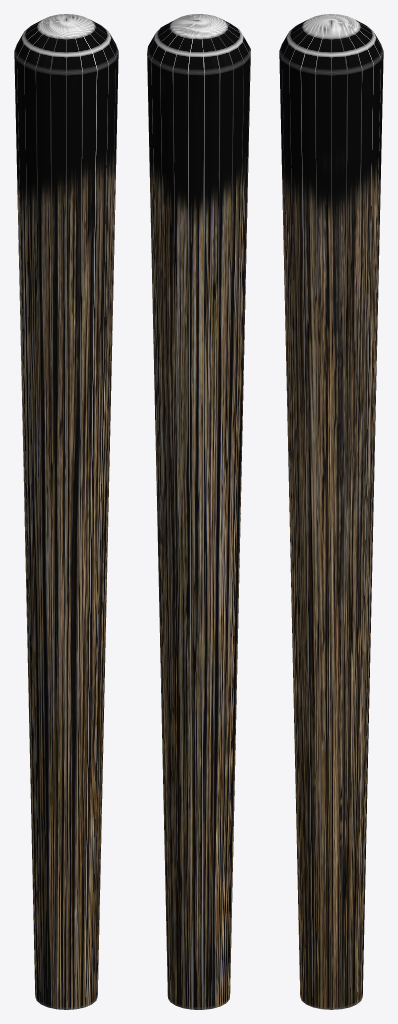
File: Torch.fbx
3 renders of one model, left to right at view 1: azimuth 90°, elevation 25°; view 2: azimuth 150°, elevation 25°; view 3: azimuth 270°, elevation 25°, orthographic.
Visible parts, largest first — view 1: pCylinder1; view 2: pCylinder1; view 3: pCylinder1.
Boxes of the visible parts, x1=… form: pCylinder1: x1=14, y1=14, x2=118, y2=1009; pCylinder1: x1=147, y1=14, x2=250, y2=1009; pCylinder1: x1=279, y1=14, x2=383, y2=1009.
Bounding box in the file's own units: 5 × 51.62 × 5.
